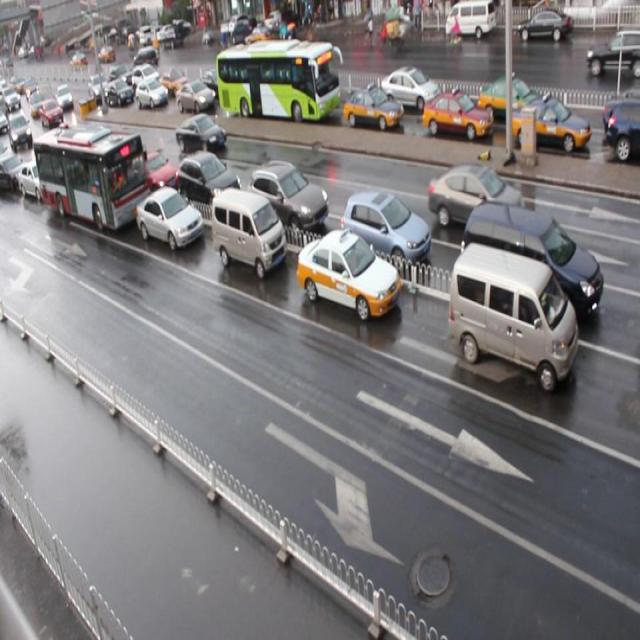car: (298, 228, 402, 322), (341, 190, 432, 274), (427, 164, 523, 237), (249, 161, 330, 234), (512, 98, 591, 156), (137, 186, 204, 250), (474, 74, 553, 125), (178, 151, 244, 212), (424, 92, 494, 139), (344, 84, 404, 133), (376, 66, 439, 112), (136, 146, 180, 194), (175, 114, 226, 155), (606, 98, 640, 159), (600, 92, 640, 136), (20, 158, 58, 202), (298, 66, 341, 102), (84, 133, 122, 172), (176, 82, 216, 115), (1, 152, 29, 194), (198, 70, 232, 102), (30, 129, 57, 167), (129, 63, 160, 93), (136, 79, 168, 108), (107, 78, 134, 106), (160, 69, 189, 95)
truck: (449, 241, 577, 391), (463, 197, 604, 328), (212, 188, 288, 278)
van: (35, 125, 154, 234), (216, 44, 340, 122)
